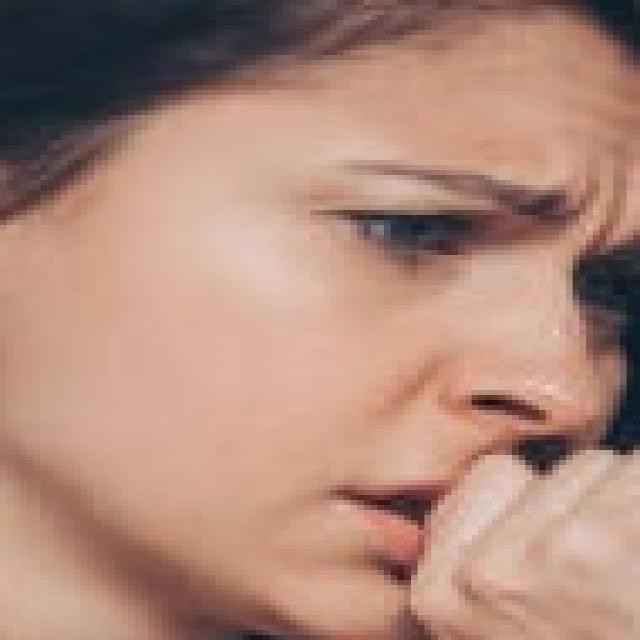Anxiety: (0, 0, 633, 635)
